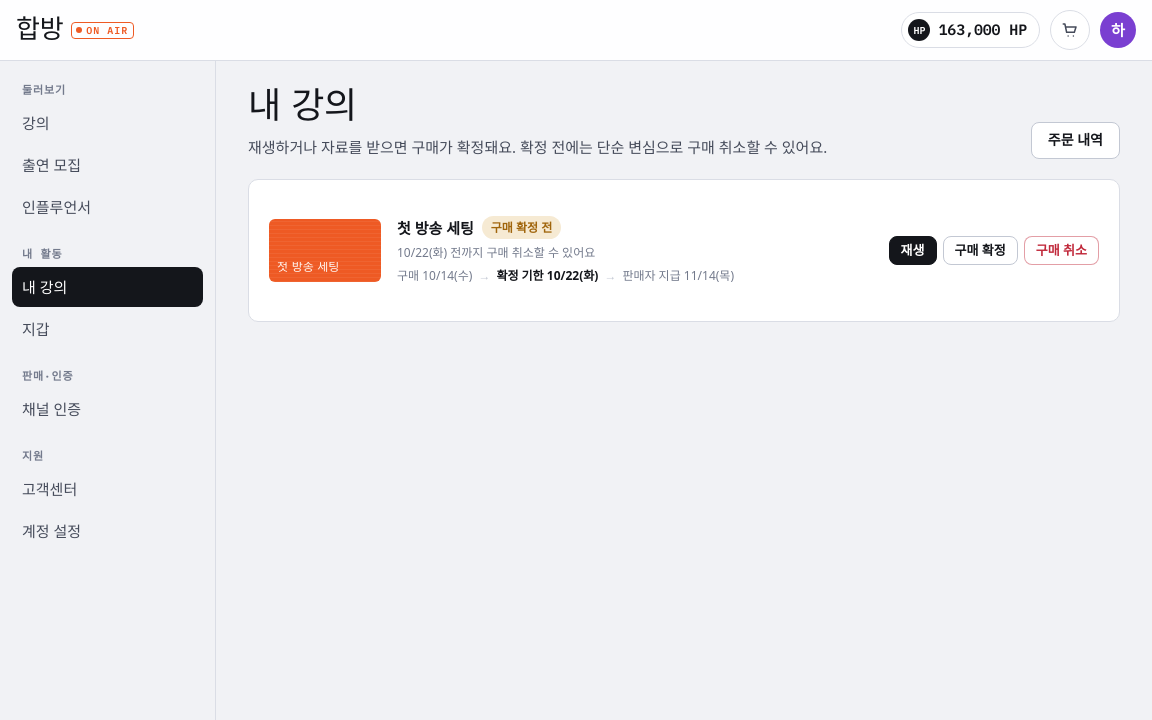
Test case: 내 강의 › 구매 확정 전 강의를 구매 취소하면 목록에서 빠진다
The width and height of the screenshot is (1152, 720).
Step 1. Click the button "구매 취소" → (1061, 250), box [1024, 236, 1099, 265]
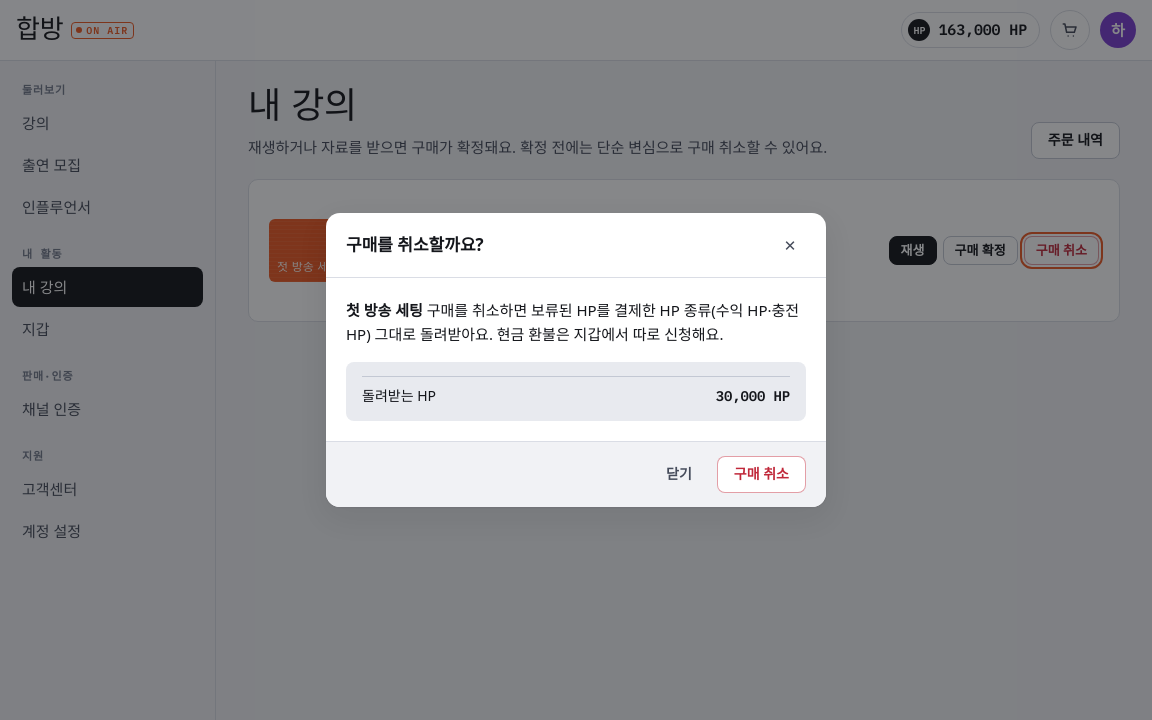
Step 2. Click the button "구매 취소" → (761, 475), box [717, 456, 806, 493]
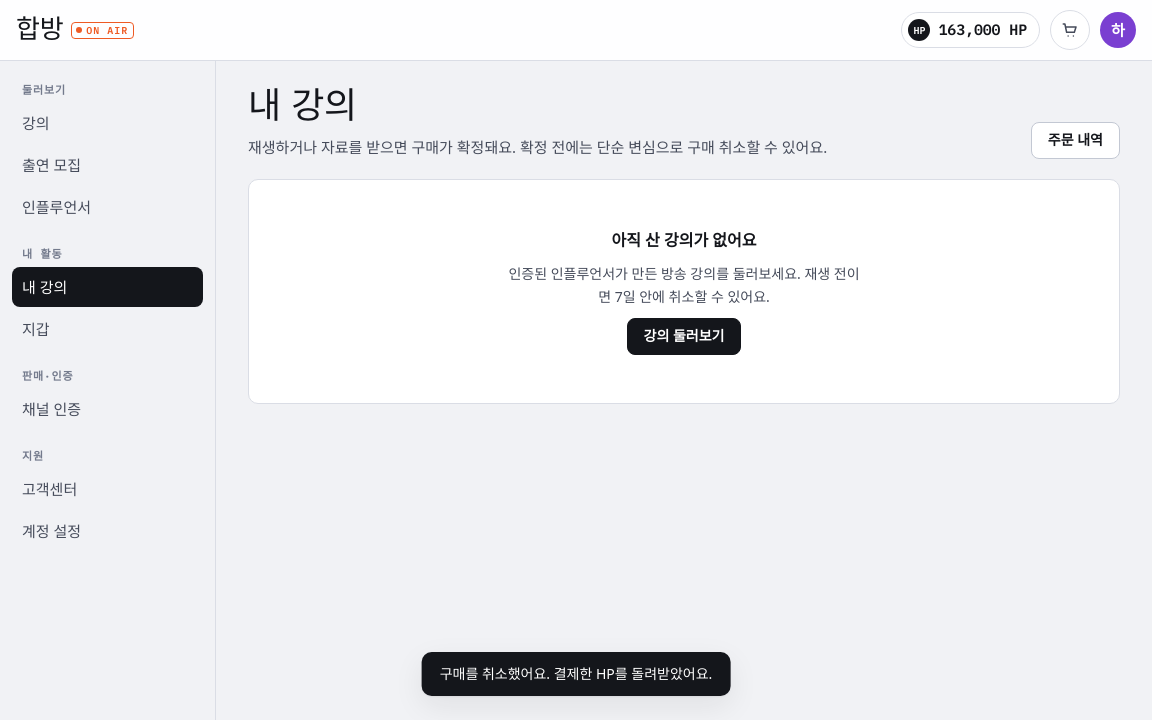
Expected: the text "아직 산 강의가 없어요" is shown, [612, 228, 756, 253]
